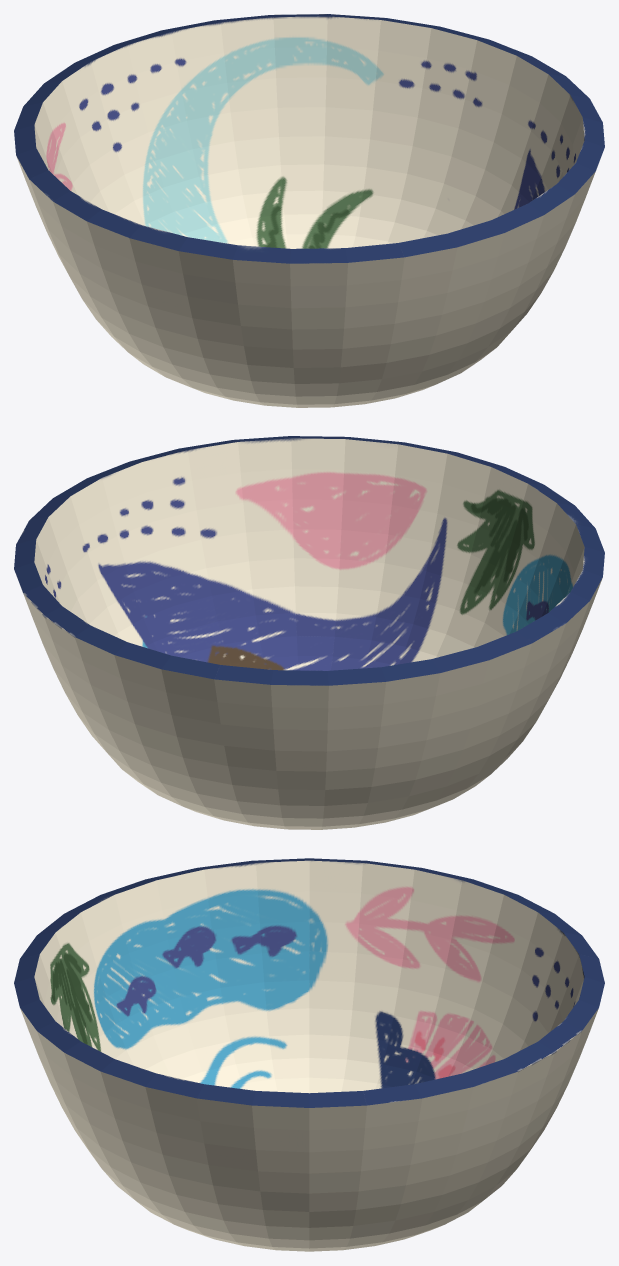
The model's file is PLATOOOPORFIN.fbx.
The picture shows the model from 3 angles, top to bottom: view 1: azimuth 30°, elevation 25°; view 2: azimuth 150°, elevation 25°; view 3: azimuth 270°, elevation 25°; orthographic projection.
Parts seen in each view (by area): view 1: Sphere; view 2: Sphere; view 3: Sphere.
Boxes of the visible parts, box(x1,y1,x2,y2) form: Sphere: box(14, 14, 604, 407); Sphere: box(14, 436, 604, 829); Sphere: box(14, 858, 604, 1251).
Bounding box in the file's own units: 76.9 × 32.19 × 76.9.
Materials: 1 (1 with a texture image).
